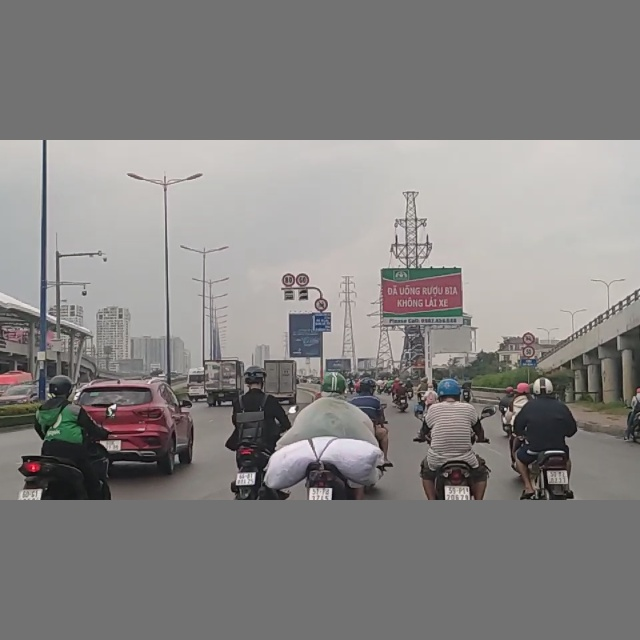P.104: (313, 294, 329, 311)
